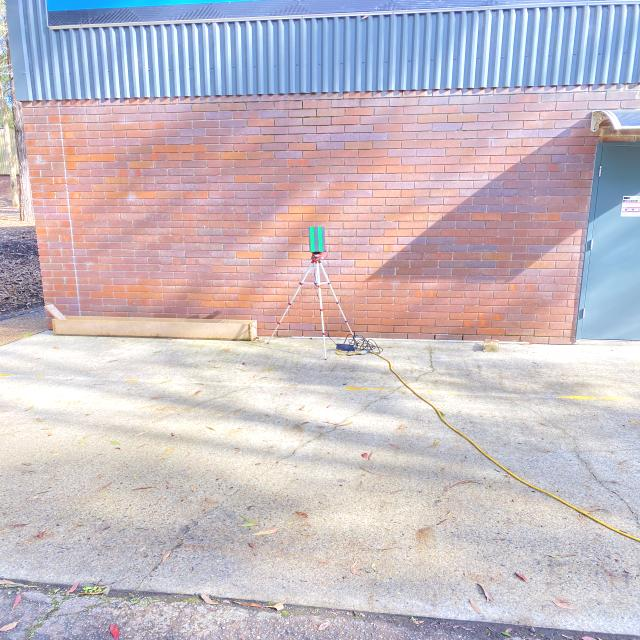matrix: (303, 221, 329, 262)
